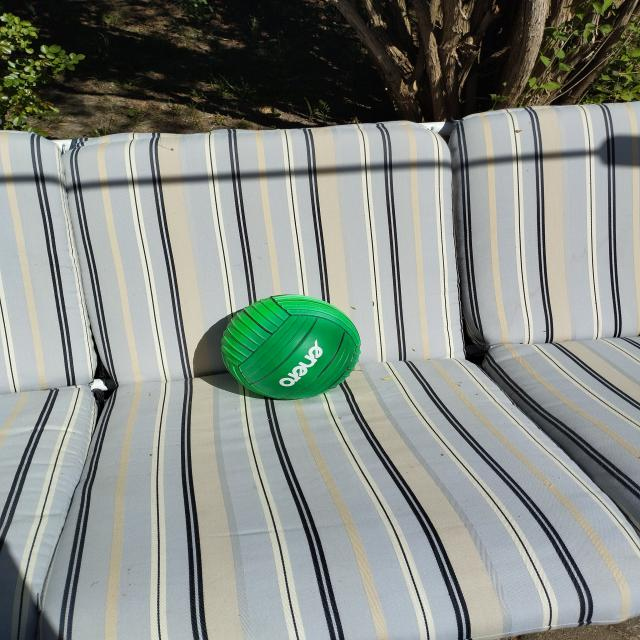zielona: (221, 294, 361, 401)
